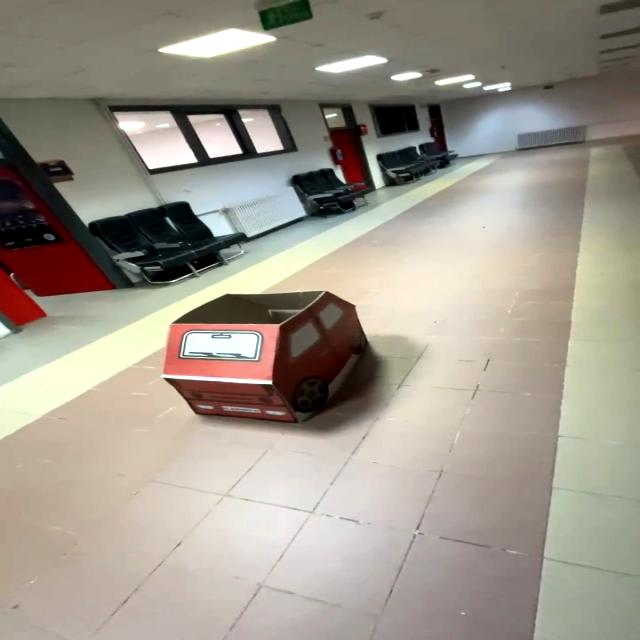red_car: (135, 272, 379, 453)
